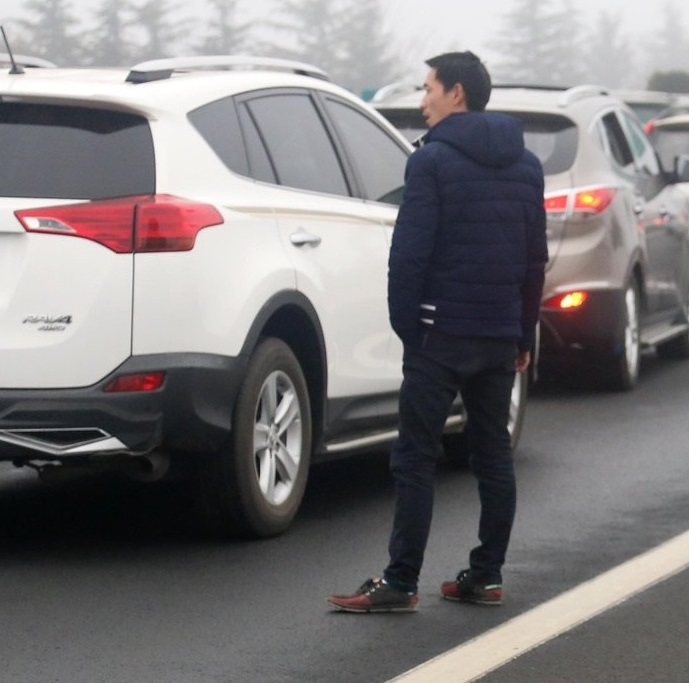person: (329, 43, 552, 618)
